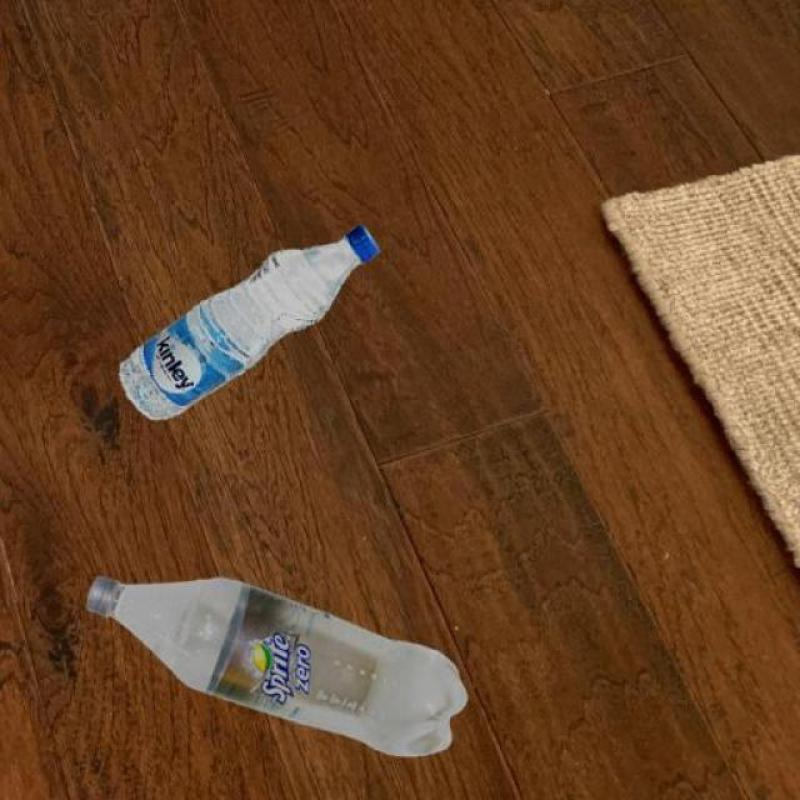botella: (86, 569, 465, 758), (116, 224, 380, 424)
